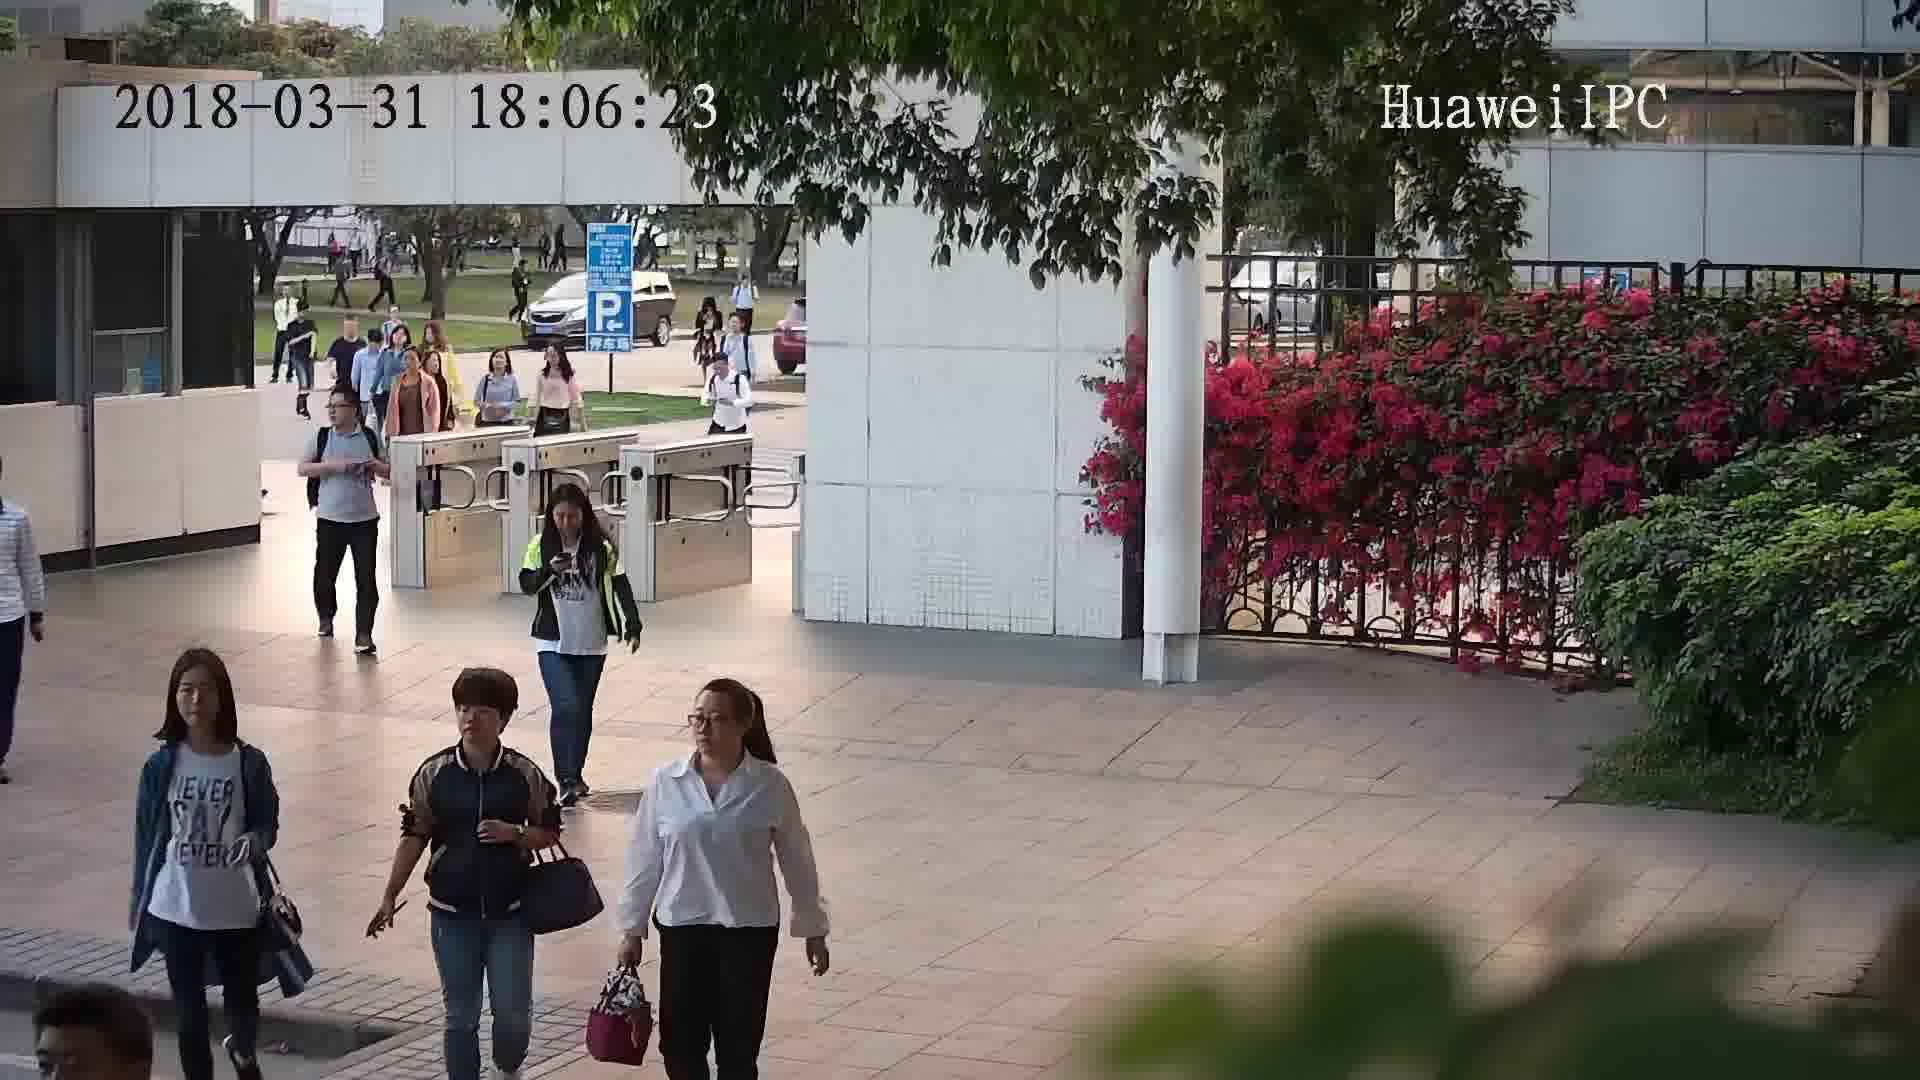face: (683, 692, 746, 755), (167, 668, 230, 730), (451, 688, 507, 744)
person: (643, 674, 791, 805), (140, 645, 269, 784), (410, 665, 544, 792), (530, 480, 616, 568), (308, 382, 382, 456), (1, 450, 34, 532), (397, 345, 447, 393), (536, 340, 581, 386), (476, 347, 521, 390), (706, 349, 750, 391), (416, 317, 461, 357), (350, 324, 392, 365), (326, 312, 367, 349), (716, 312, 757, 350), (377, 327, 416, 363), (285, 298, 316, 332), (272, 281, 302, 312), (381, 306, 410, 334), (695, 293, 724, 321), (731, 268, 758, 293)
